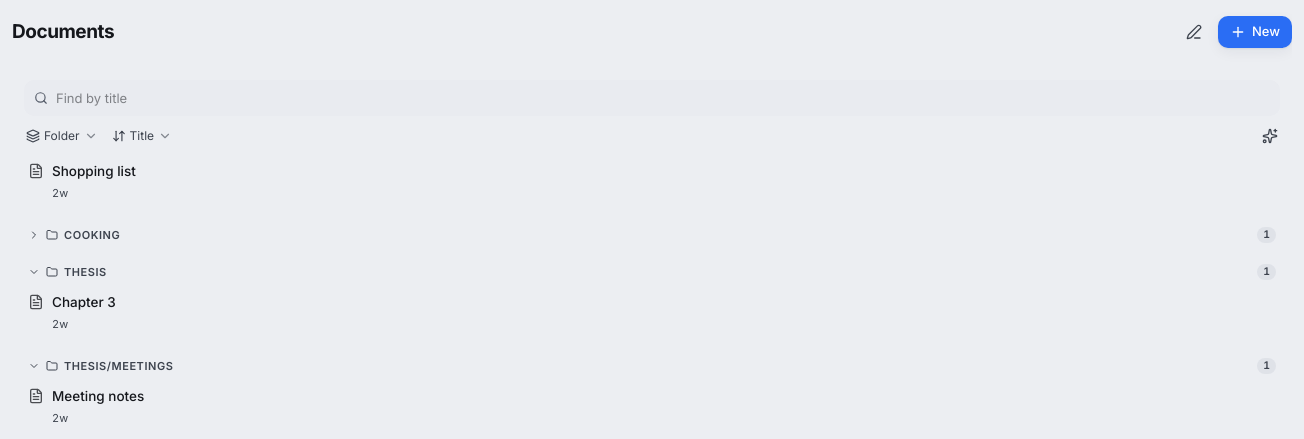
Test case: groups › the search finds documents in folded groups too
Expected: the text "Recipes" is not shown
Step 1. Type "reci" into the field labelled "Find by title" → (652, 98), box [24, 80, 1280, 116]
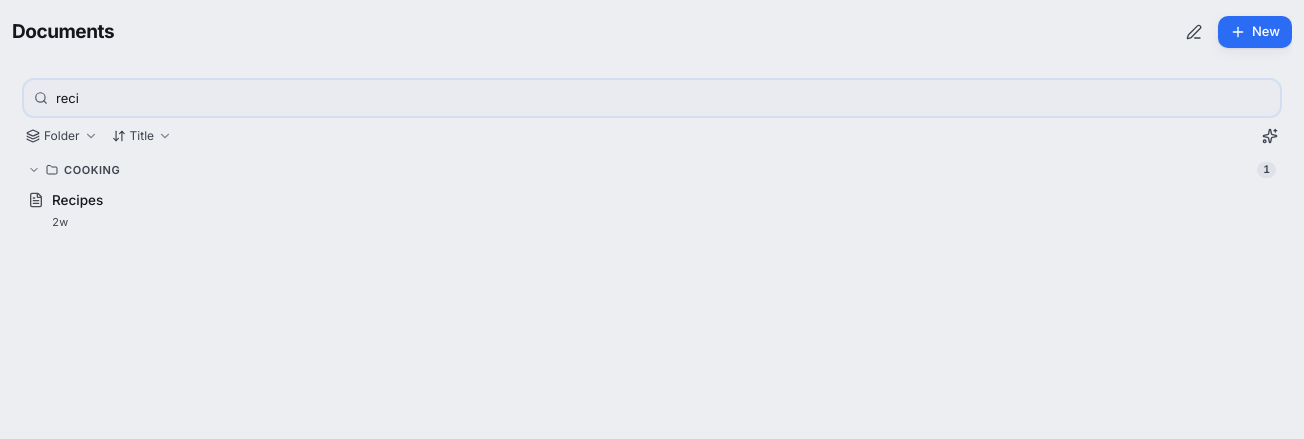
Expected: the text "Recipes" is shown, [52, 192, 103, 208]
